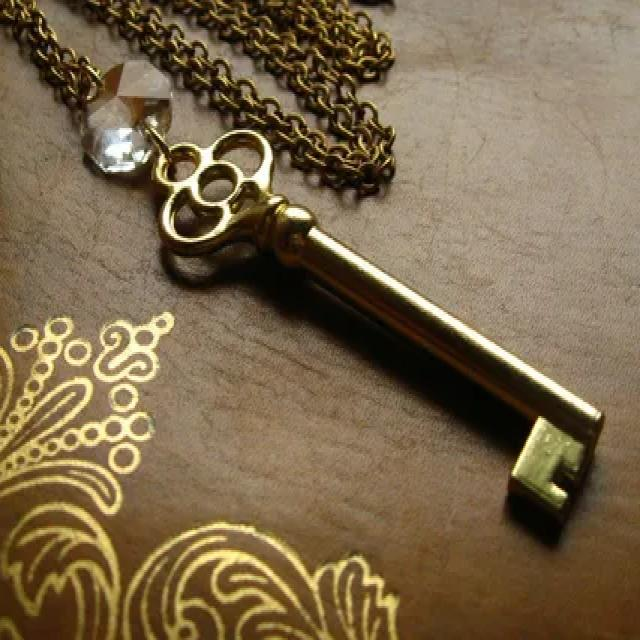key: (132, 118, 610, 533)
